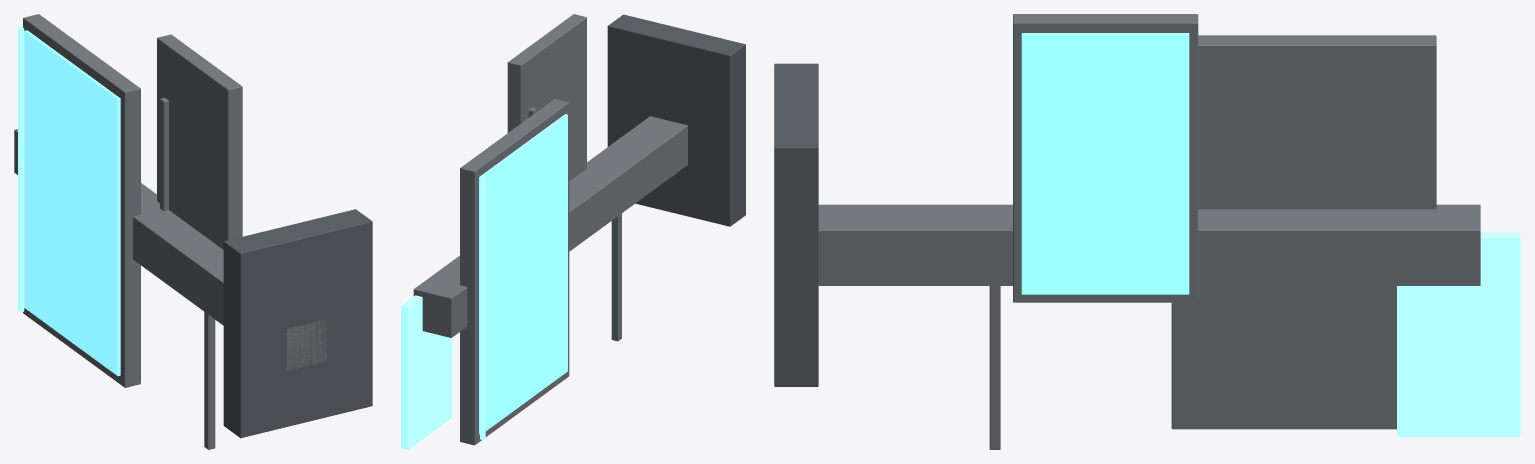
Rendered from mass_billboard_stack_yard_r.glb.
3 renders of one model, left to right at view 1: azimuth 30°, elevation 25°; view 2: azimuth 150°, elevation 25°; view 3: azimuth 270°, elevation 25°, orthographic. The views are drawn at different scales.
Visible parts, largest first — view 1: FlightKit_MassBillboard_yard_R; view 2: FlightKit_MassBillboard_yard_R; view 3: FlightKit_MassBillboard_yard_R.
Boxes of the visible parts, x1,y1,x2,y2 form: FlightKit_MassBillboard_yard_R: (14, 14, 372, 449); FlightKit_MassBillboard_yard_R: (401, 14, 745, 449); FlightKit_MassBillboard_yard_R: (774, 14, 1520, 449).
Bounding box in the file's own units: 4.5 × 11.25 × 16.9.
